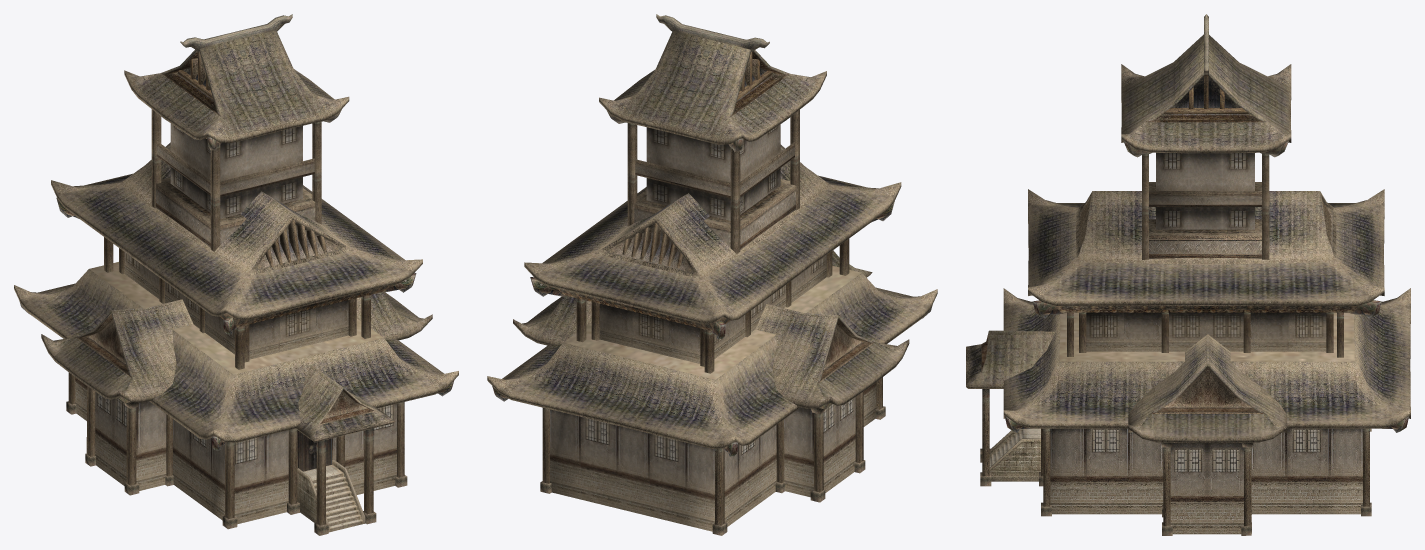
File: desert-castle02.glb
The picture shows the model from 3 angles, left to right: view 1: azimuth 30°, elevation 25°; view 2: azimuth 150°, elevation 25°; view 3: azimuth 270°, elevation 25°; orthographic projection. The views are drawn at different scales.
Visible parts, largest first — view 1: desert-castle02-02, desert-castle02-01, desert-castle02-03; view 2: desert-castle02-02, desert-castle02-01, desert-castle02-03; view 3: desert-castle02-02, desert-castle02-01, desert-castle02-03.
Part boxes in pixels (<box>): desert-castle02-02: <box>14,142,458,524</box>; desert-castle02-01: <box>66,14,407,535</box>; desert-castle02-03: <box>41,292,432,442</box>; desert-castle02-02: <box>487,144,937,531</box>; desert-castle02-01: <box>540,14,885,535</box>; desert-castle02-03: <box>513,250,909,409</box>; desert-castle02-02: <box>1003,189,1410,534</box>; desert-castle02-01: <box>980,14,1371,535</box>; desert-castle02-03: <box>966,330,1287,442</box>.
Size of the model in its own units: 25.69 by 32.74 by 30.68.
3 materials, 3 textured.
